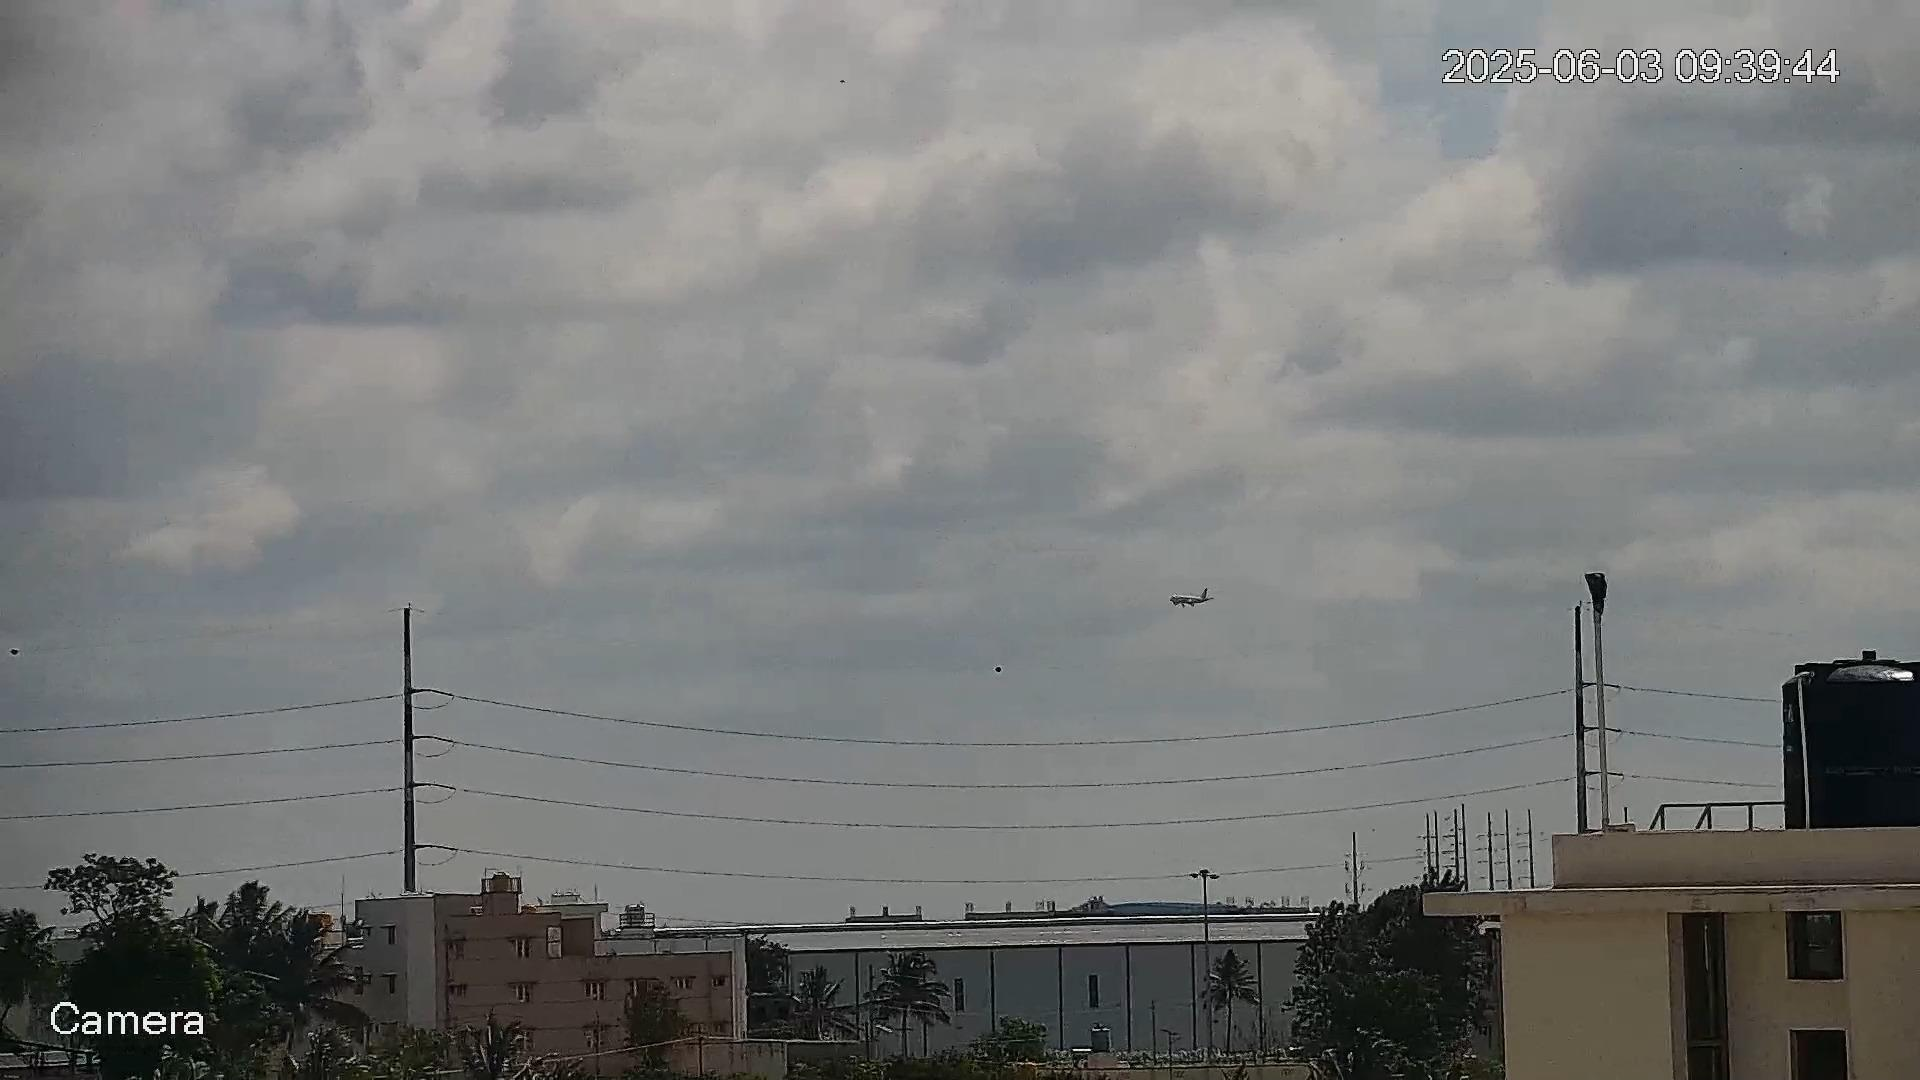Aircraft: (1168, 587, 1213, 609)
